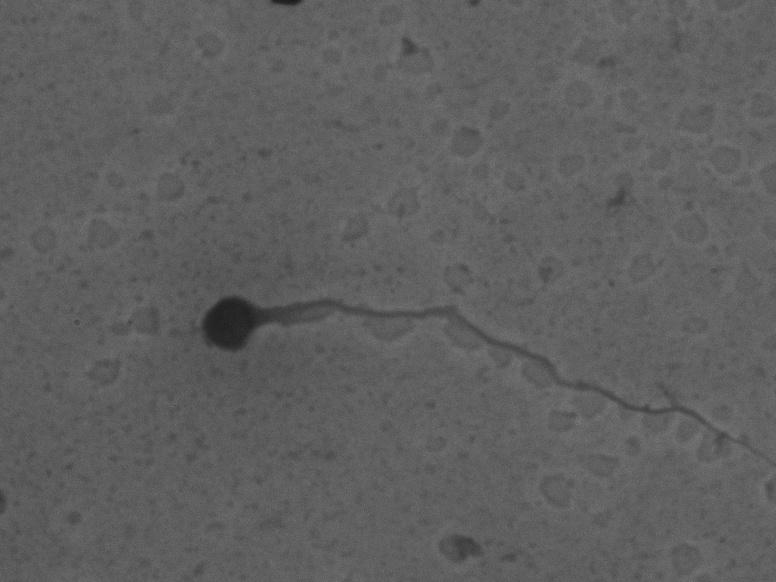Abnormal: (172, 277, 740, 450)
